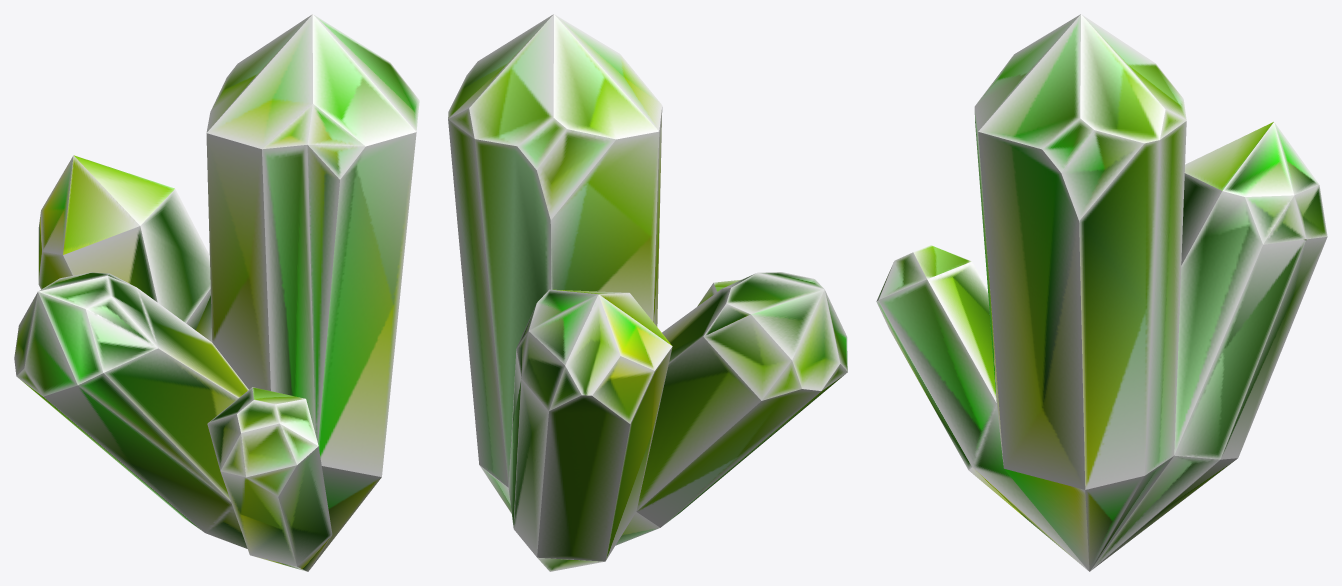
The model's file is Crystal08.FBX.
3 views of the same model, side by side, from view 1: azimuth 30°, elevation 25°; view 2: azimuth 150°, elevation 25°; view 3: azimuth 270°, elevation 25° (orthographic).
Visible parts, largest first — view 1: Crystal08; view 2: Crystal08; view 3: Crystal08.
Part boxes in pixels (<box>): Crystal08: <box>14,14,419,571</box>; Crystal08: <box>448,14,847,571</box>; Crystal08: <box>876,14,1327,571</box>.
Size of the model in its own units: 28.06 by 38.58 by 28.27.
